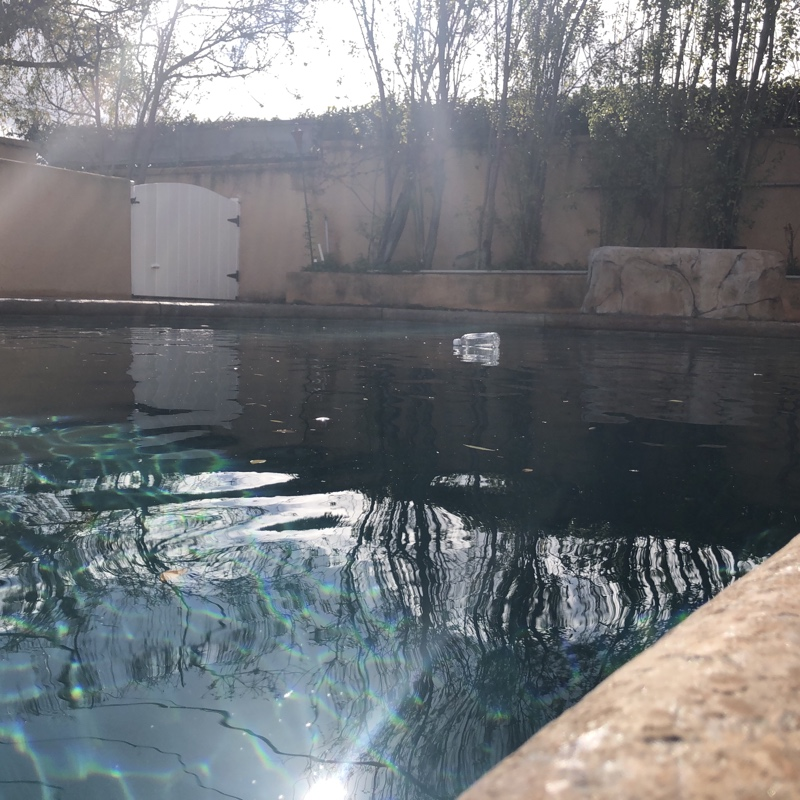Plastic Bottle: (451, 332, 501, 347)
